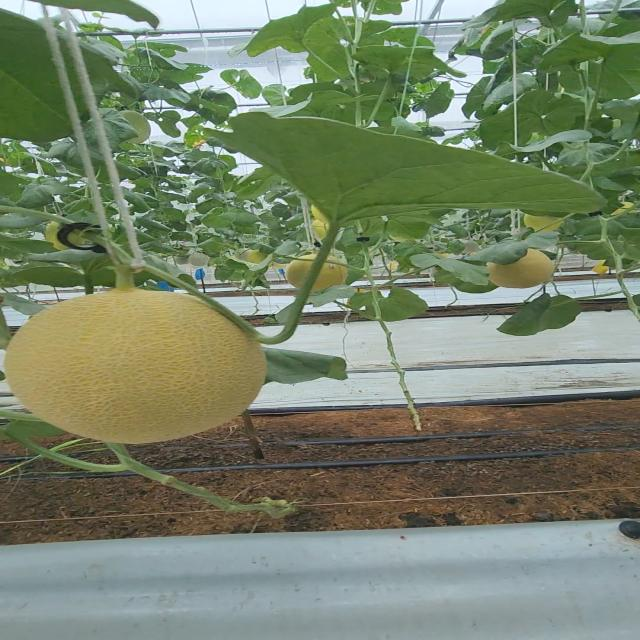Melon: (0, 283, 273, 446)
